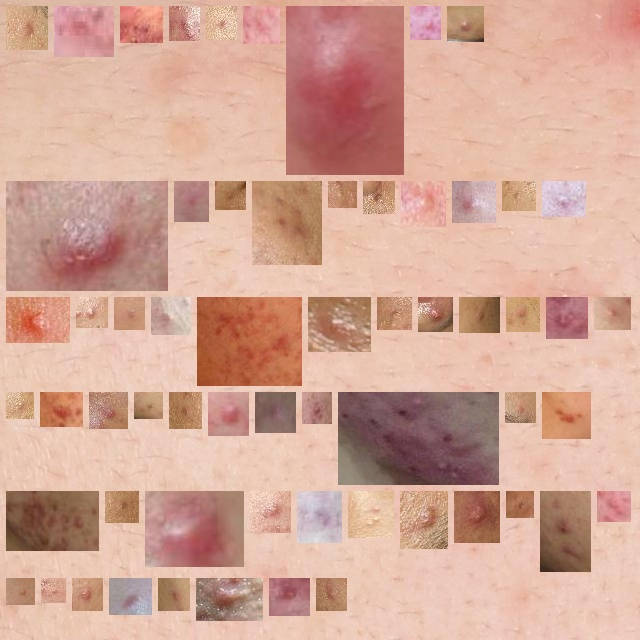papule: (294, 14, 396, 167), (14, 189, 160, 283), (346, 400, 491, 477), (205, 305, 294, 378), (153, 499, 236, 559), (260, 189, 314, 257), (14, 499, 91, 543), (548, 499, 583, 564), (316, 305, 363, 344), (62, 14, 106, 49), (14, 305, 62, 335), (204, 586, 255, 613), (408, 499, 440, 541), (462, 499, 492, 535), (305, 499, 334, 535), (550, 400, 583, 431), (356, 499, 386, 530), (409, 189, 438, 219), (14, 14, 40, 42), (460, 189, 488, 215), (216, 400, 241, 428), (554, 305, 580, 331), (258, 499, 283, 525), (263, 400, 288, 425), (128, 14, 155, 35), (117, 586, 144, 607), (550, 189, 578, 209), (277, 586, 302, 608), (159, 305, 183, 327), (48, 400, 75, 419), (467, 305, 492, 325), (97, 400, 120, 421), (182, 189, 201, 214), (251, 14, 272, 36), (455, 14, 476, 34), (426, 305, 445, 324), (602, 305, 623, 322), (177, 400, 194, 421), (514, 305, 532, 324), (385, 305, 404, 322), (113, 499, 131, 515), (177, 14, 192, 33), (371, 189, 387, 206), (166, 586, 182, 603), (214, 14, 229, 32), (418, 14, 433, 32), (605, 499, 623, 514), (122, 305, 137, 322), (80, 586, 95, 603), (324, 586, 339, 603), (510, 189, 528, 203), (84, 305, 100, 320), (513, 400, 528, 415), (310, 400, 324, 416), (223, 189, 238, 202), (336, 189, 349, 200), (142, 400, 155, 411), (14, 586, 27, 597), (14, 400, 26, 411), (514, 499, 526, 510), (49, 586, 58, 595)
